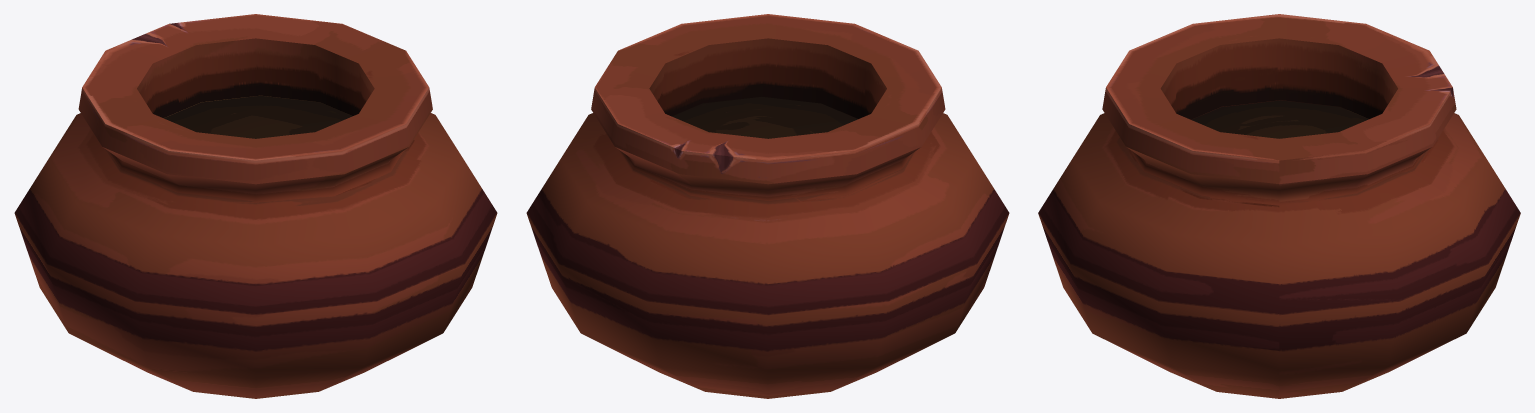
Rendered from SM_PROP_pot_dungeon_07.fbx.
3 renders of one model, left to right at view 1: azimuth 30°, elevation 25°; view 2: azimuth 150°, elevation 25°; view 3: azimuth 270°, elevation 25°, orthographic.
Visible parts, largest first — view 1: SM_PROP_pot_dungeon_07; view 2: SM_PROP_pot_dungeon_07; view 3: SM_PROP_pot_dungeon_07.
Part boxes in pixels (x1,y1,x2,y2): SM_PROP_pot_dungeon_07: (14,14,497,398); SM_PROP_pot_dungeon_07: (526,14,1009,398); SM_PROP_pot_dungeon_07: (1038,14,1520,398).
Bounding box in the file's own units: 58.77 × 34.71 × 58.77.
